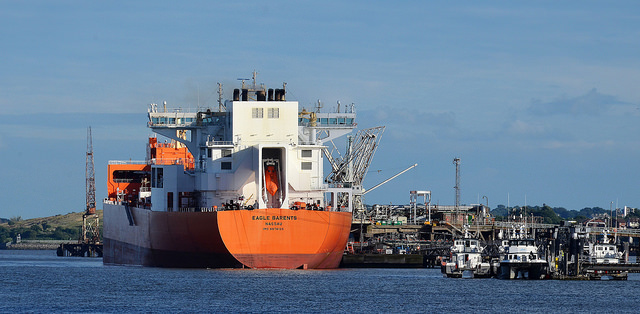boat: (430, 217, 495, 283), (497, 215, 545, 285)
tanker: (103, 77, 366, 268)
